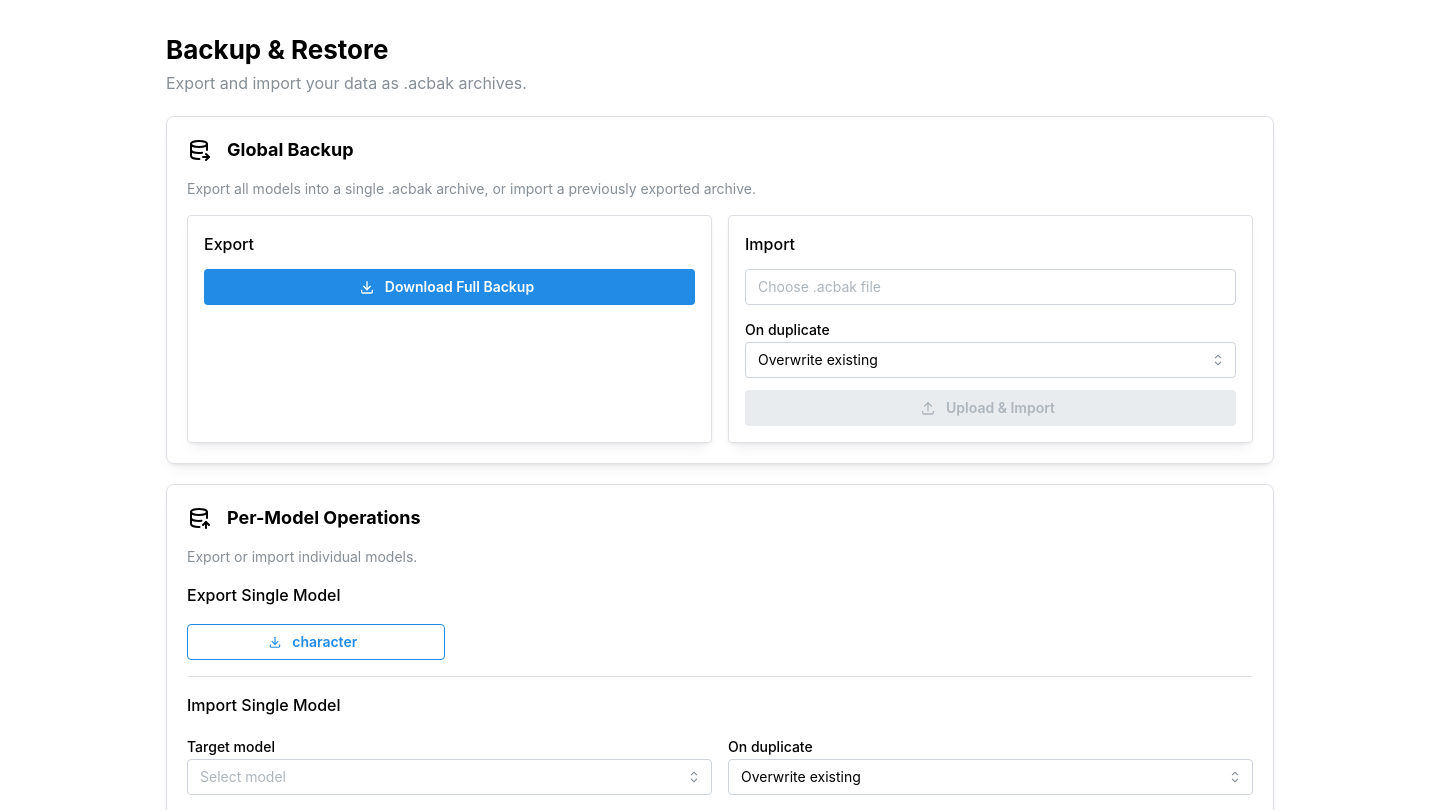
Scenario: BackupRestore › handles per-model export success with global fallback
What coordinates should you click on to do the following:
click the button "character"
I would click on:
 (316, 642)
Its box is [187,624,444,660].
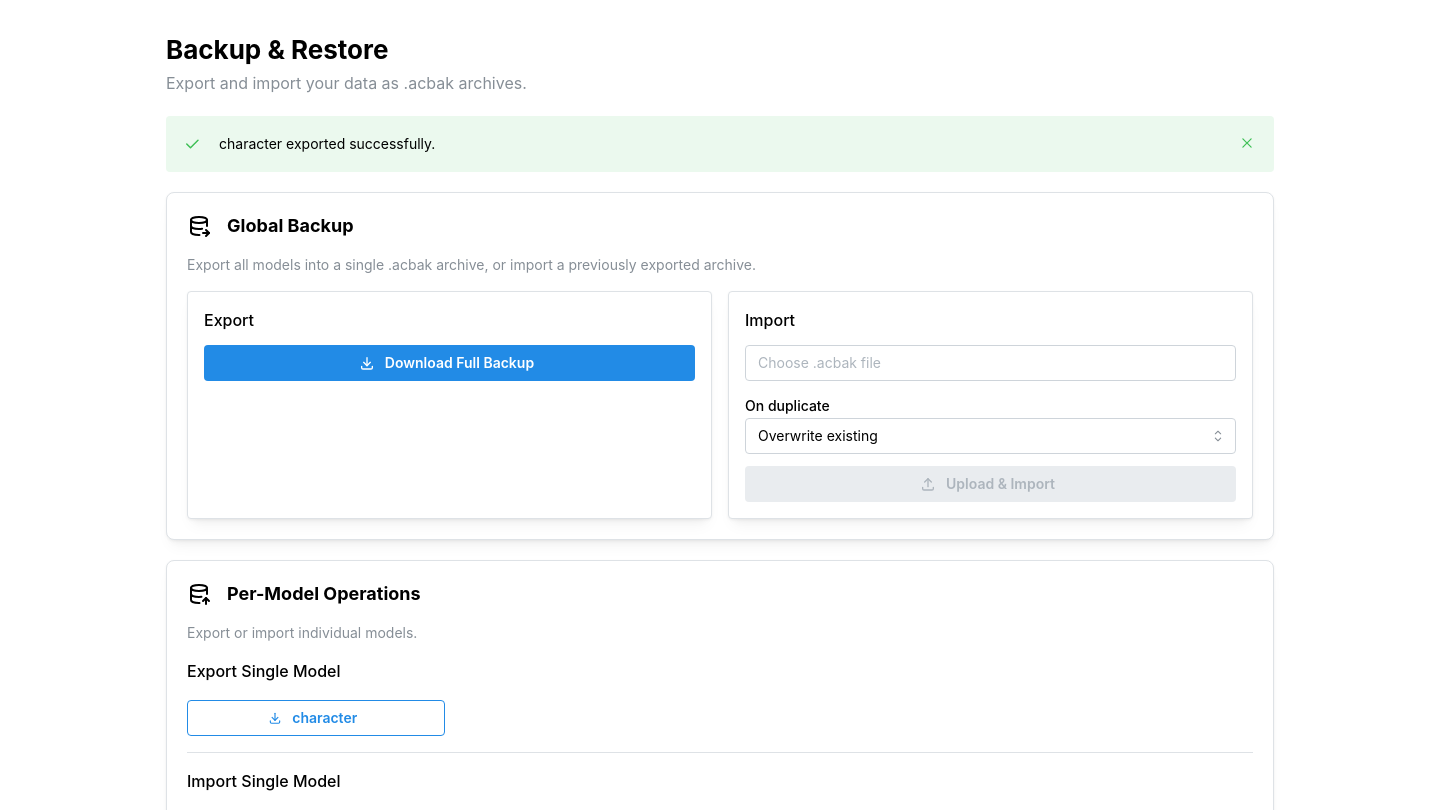
Result: the text "character exported successfully." is shown at [219,135,435,152]
